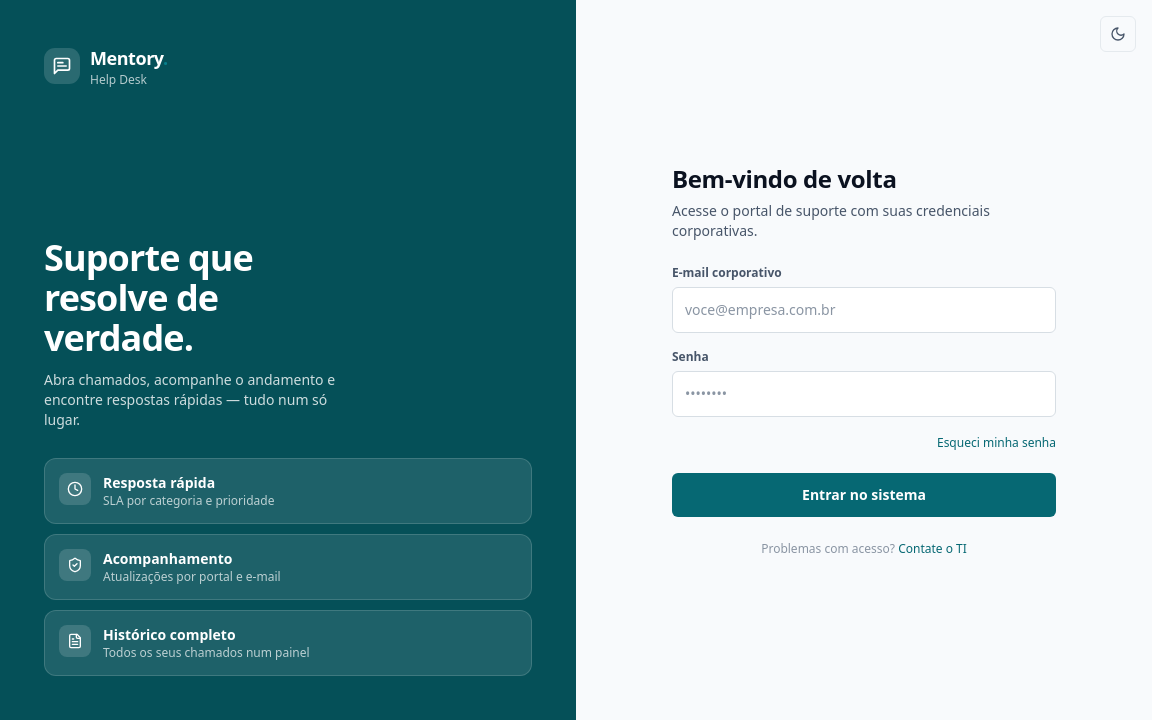
LoginPage (F1.3) › FE01: mostra a mensagem genérica em credencial inválida (401)
The image size is (1152, 720).
Type "ana.lima@empresa.com.br" into the field labelled "E-mail corporativo".
click(864, 310); type("ana.lima@empresa.com.br")  # box [672,287,1056,333]
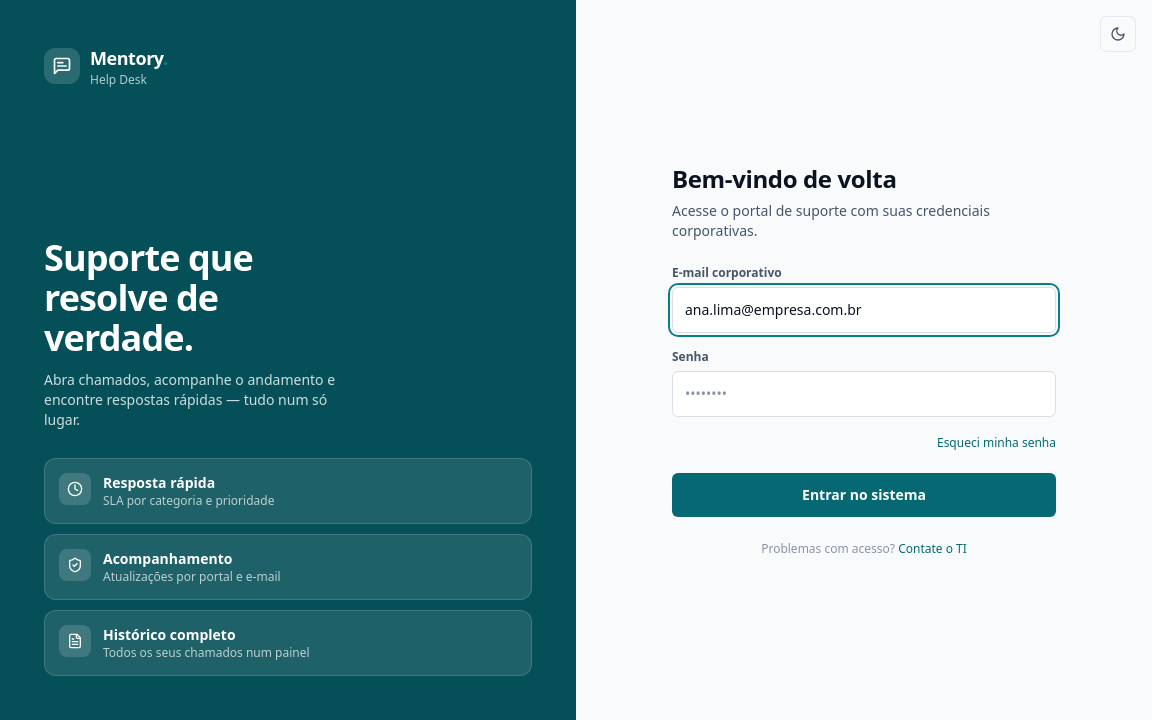
Type "errada" into the password field labelled "Senha".
click(864, 394); type("errada")  # box [672,371,1056,417]
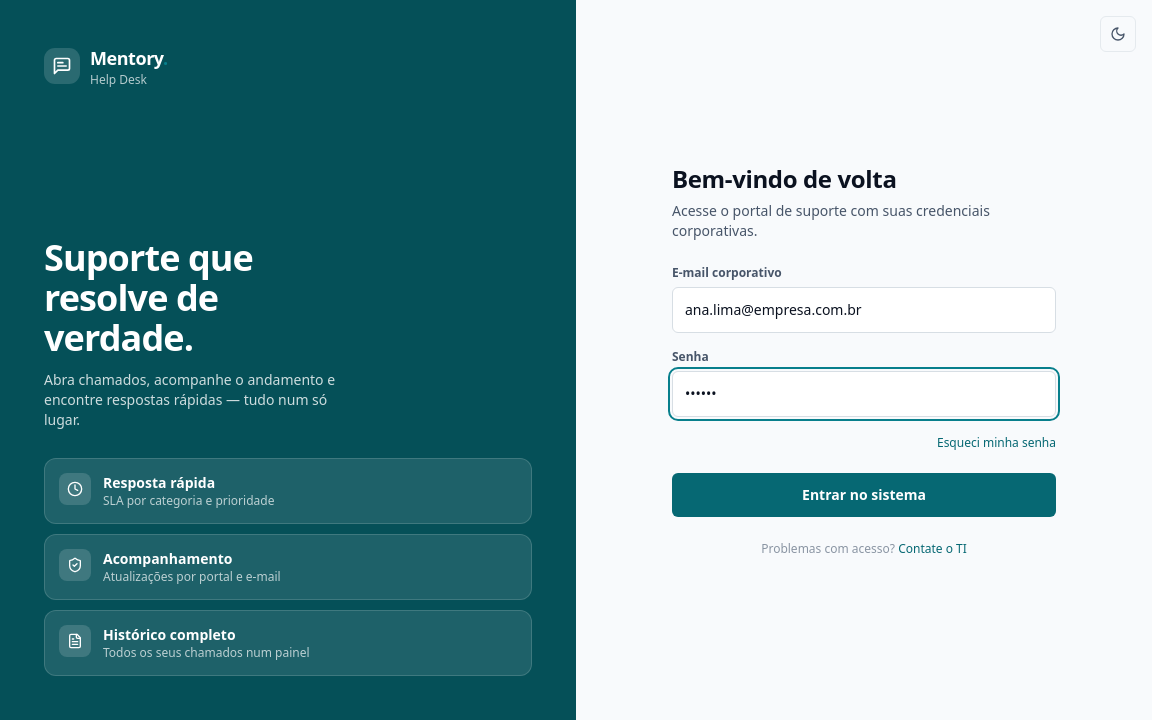
Click the button "Entrar no sistema".
click(864, 495)  # box [672,473,1056,517]
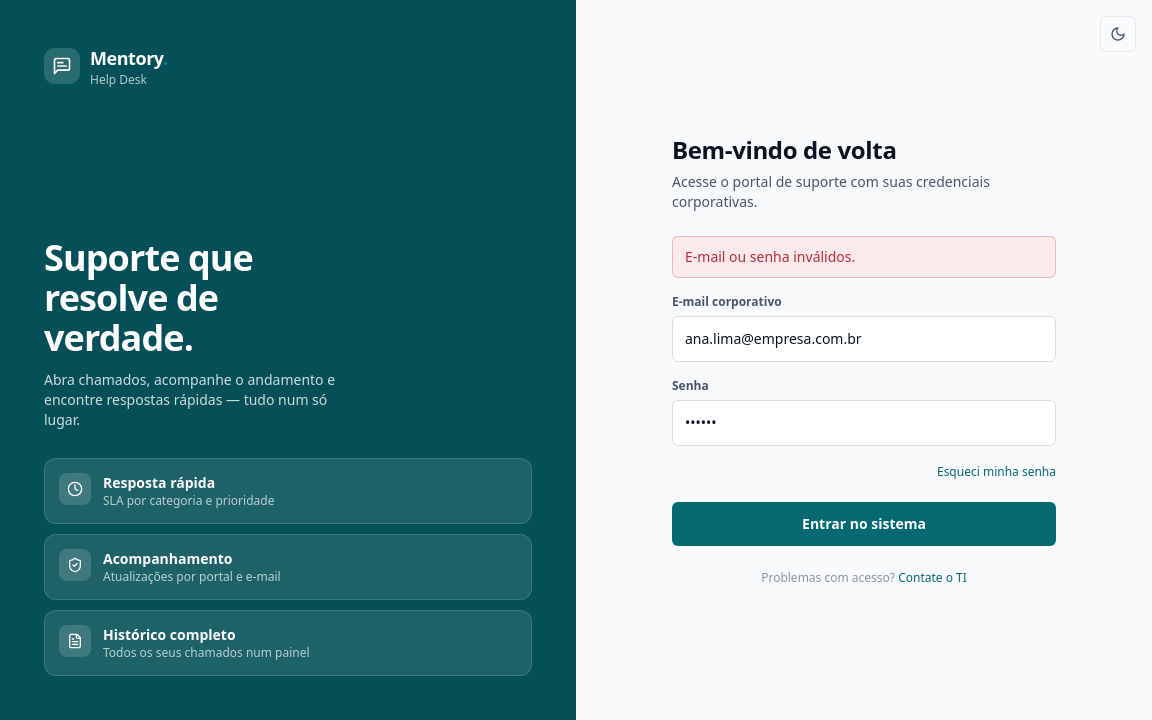
Expected: the message reads "E-mail ou senha inválidos.", [685,247,855,266]
